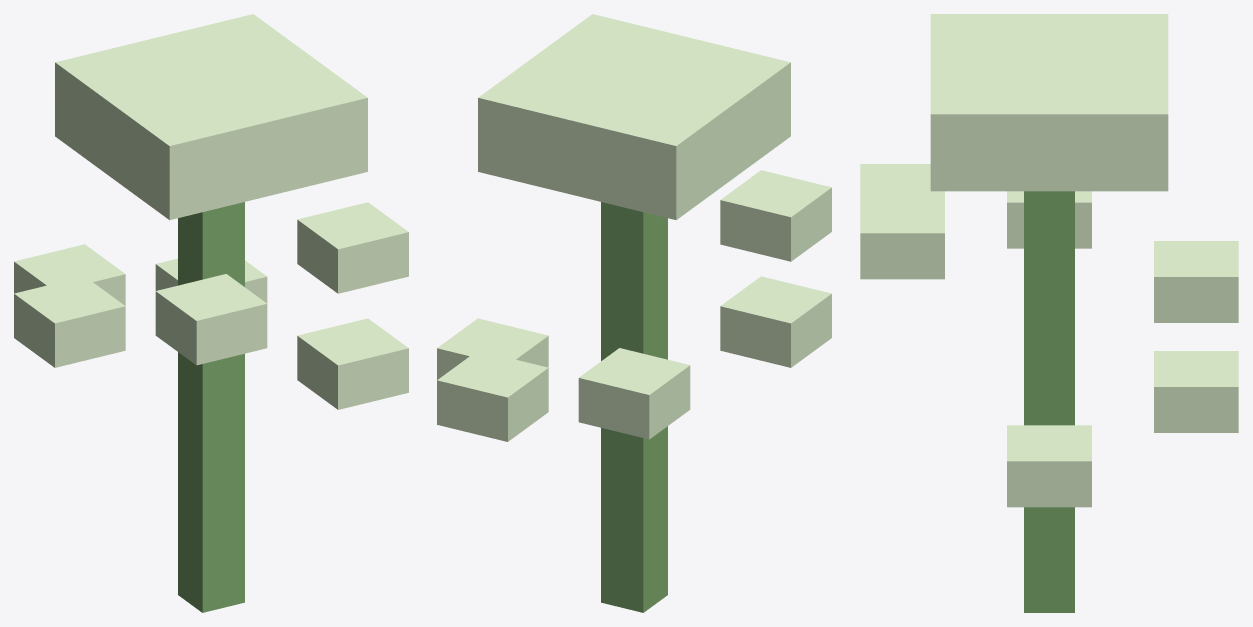
The model's file is Prop_DS_Herb_ParityPetal_S3_V3.glb.
3 renders of one model, left to right at view 1: azimuth 30°, elevation 25°; view 2: azimuth 150°, elevation 25°; view 3: azimuth 270°, elevation 25°, orthographic. The views are drawn at different scales.
Visible parts, largest first — view 1: Prop_DS_Herb_ParityPetal_S3_V3; view 2: Prop_DS_Herb_ParityPetal_S3_V3; view 3: Prop_DS_Herb_ParityPetal_S3_V3.
Part boxes in pixels (left/top/right/bottom): Prop_DS_Herb_ParityPetal_S3_V3: left=14, top=14, right=408, bottom=612; Prop_DS_Herb_ParityPetal_S3_V3: left=437, top=14, right=831, bottom=612; Prop_DS_Herb_ParityPetal_S3_V3: left=860, top=14, right=1238, bottom=612.
Bounding box in the file's own units: 0.5 × 0.7 × 0.4464.
